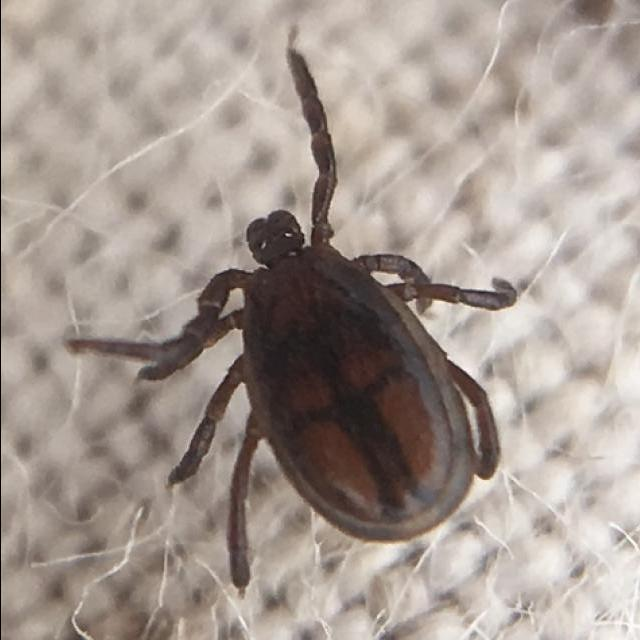Ixodes Ricinus-M: (63, 50, 512, 588)
